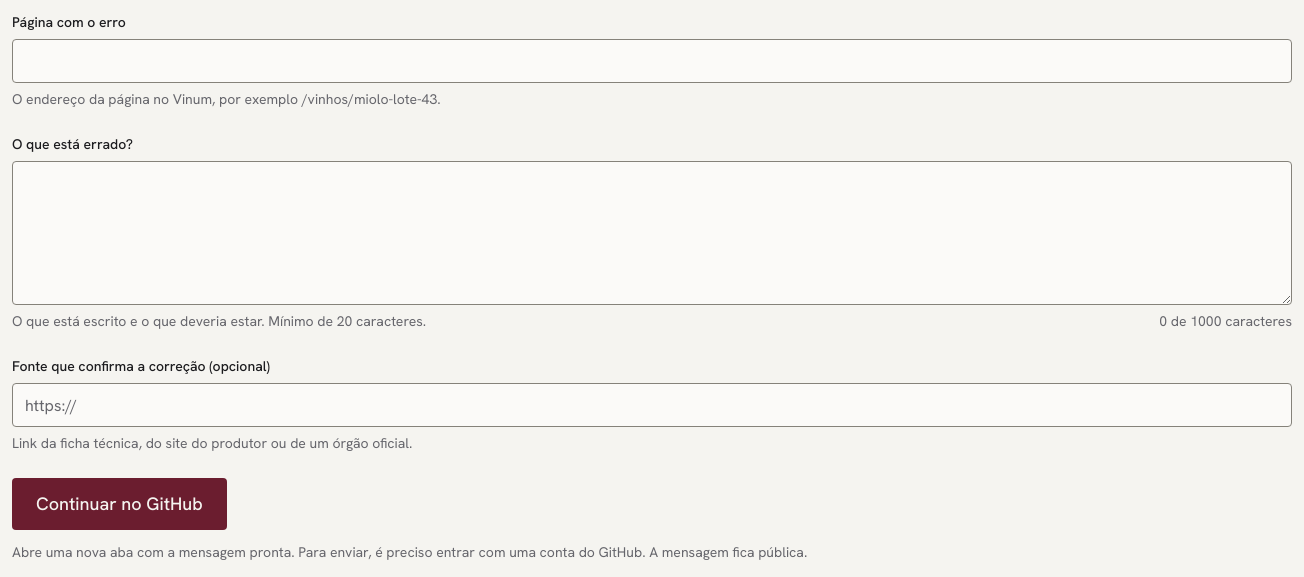
Test case: CorrectionForm › conta os caracteres e não aceita além do limite
The width and height of the screenshot is (1304, 577).
Type "Erro de safra" into the text box labelled "O que está errado?".
click(652, 233); type("Erro de safra")  # box [12, 161, 1292, 305]
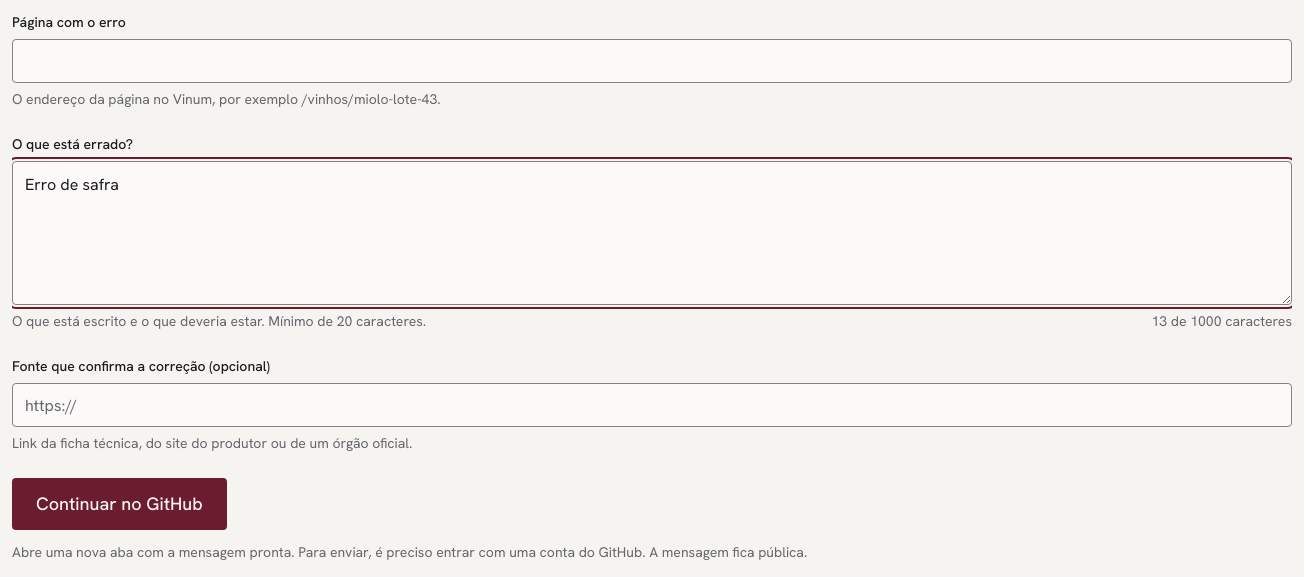
Now the text "13 de 1000 caracteres" is shown, box [1151, 311, 1292, 332]
